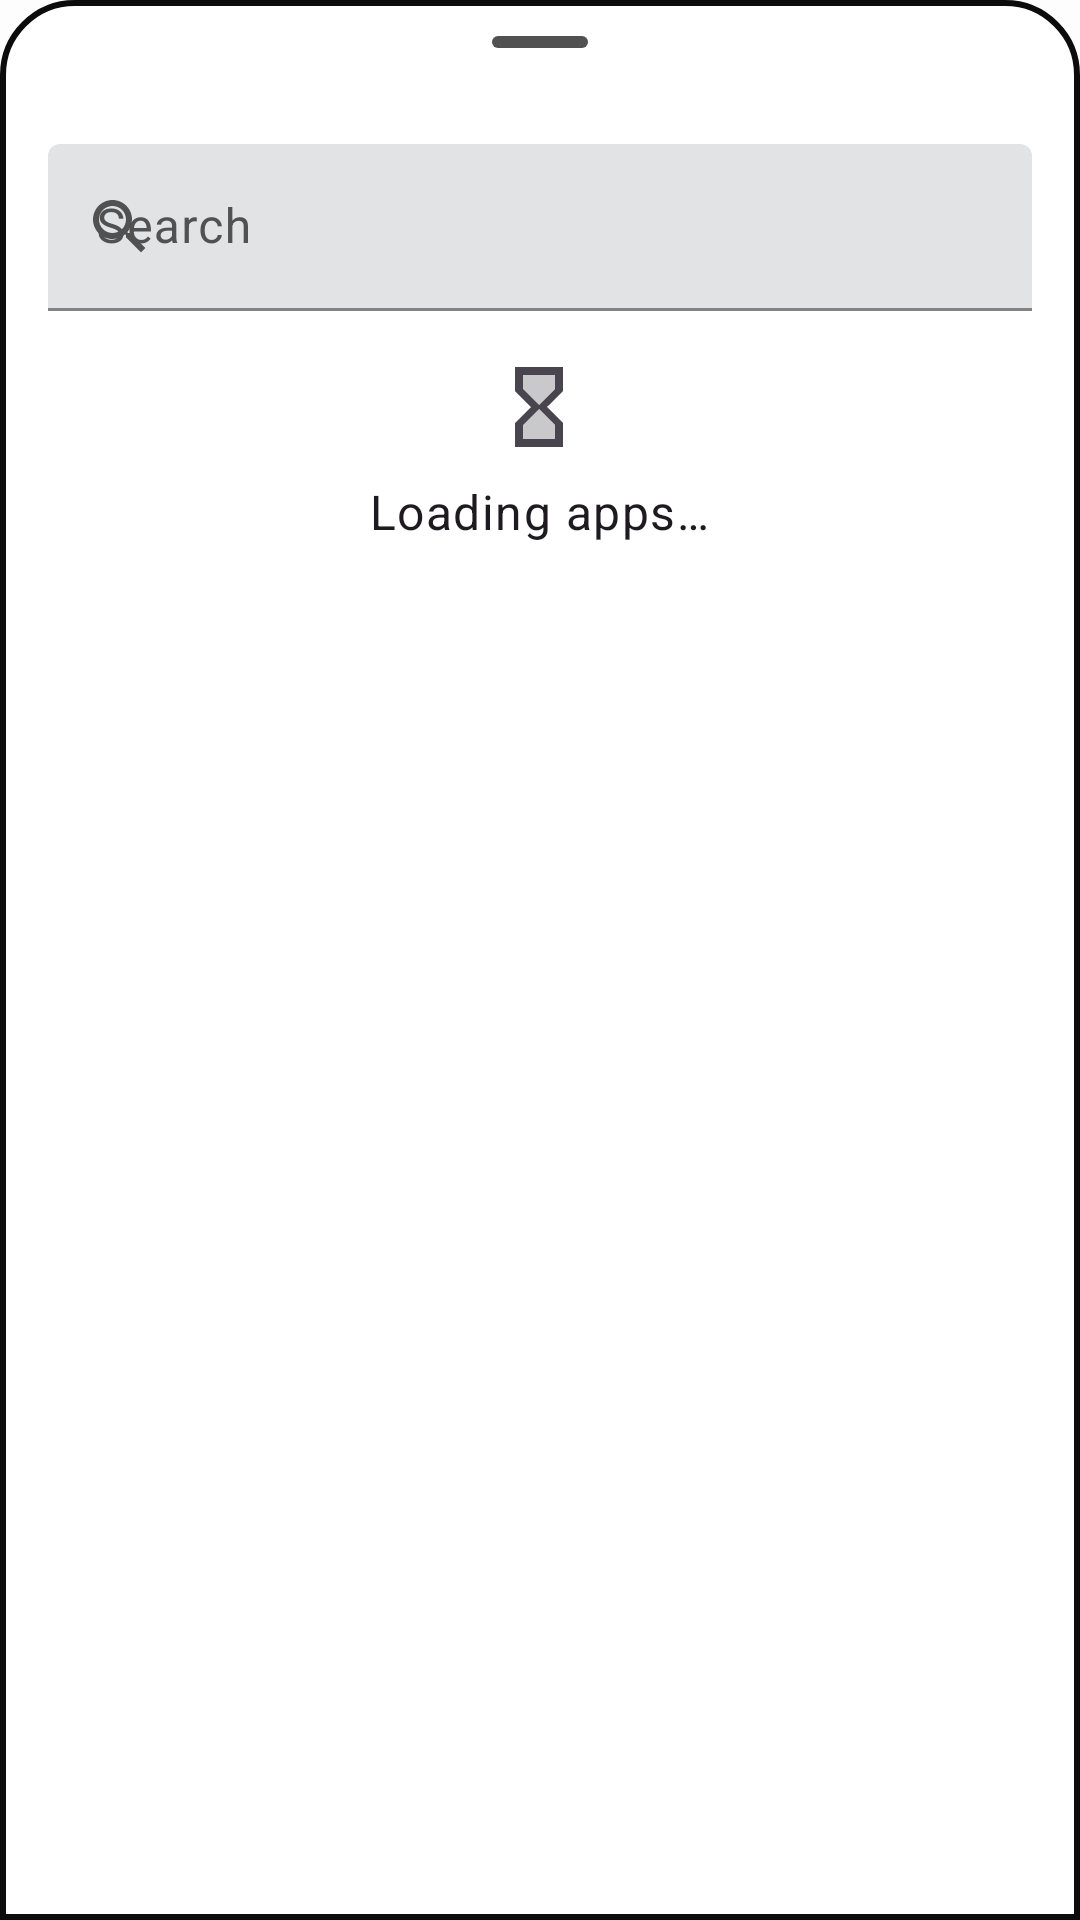

Icon click points for this 1080 x 1920 phone screenshot, format point (x, y):
hourglass full: point (539, 407)
